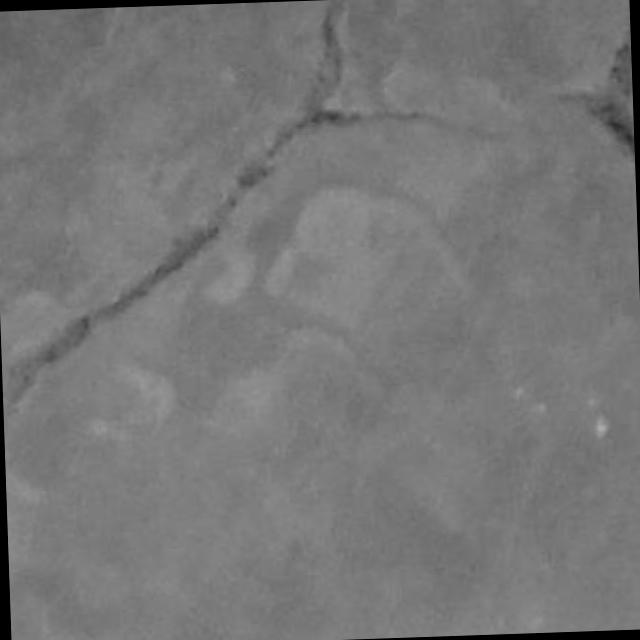crack: (4, 0, 363, 423), (586, 33, 634, 159), (586, 97, 634, 159)
